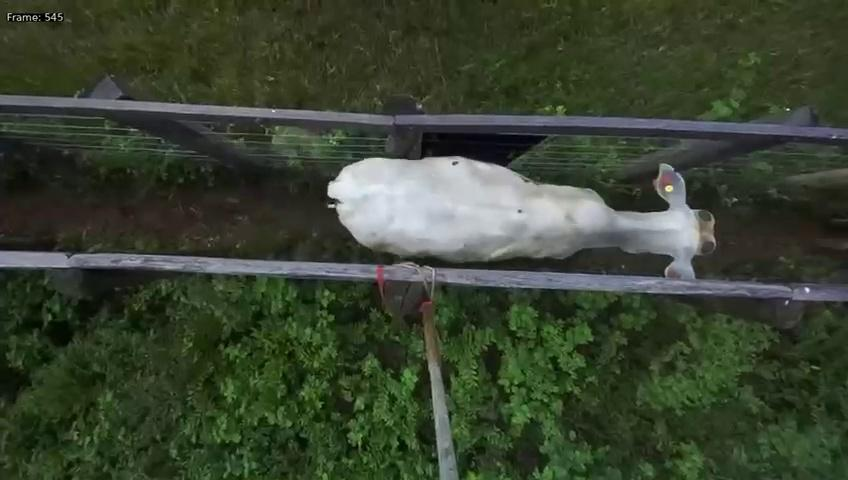cattle: (315, 141, 723, 291)
